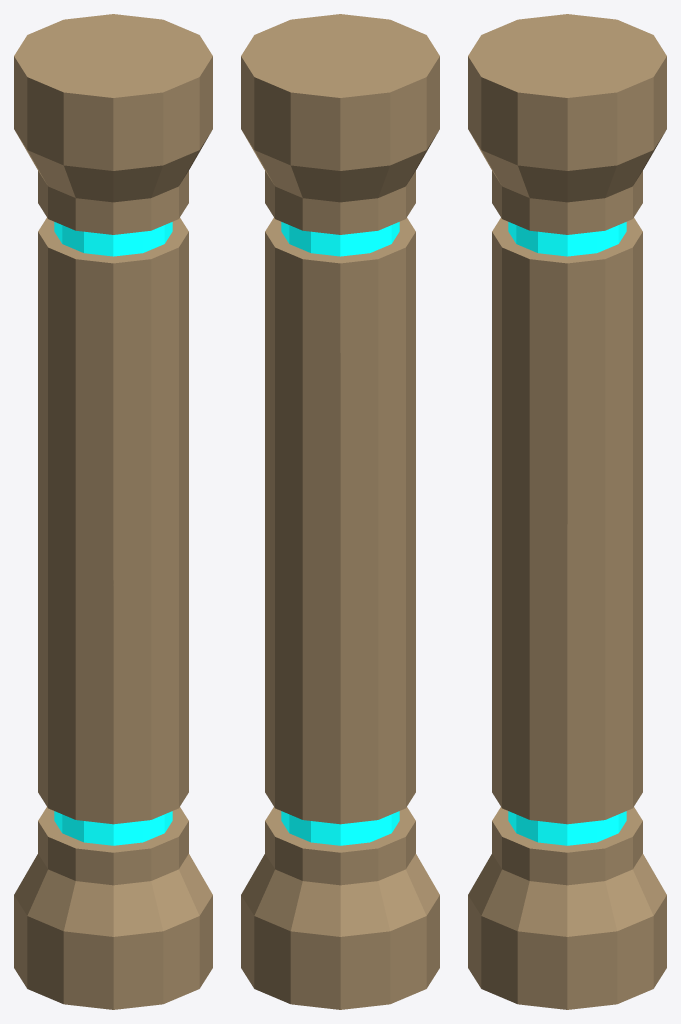
Rendered from Pillar.fbx.
3 renders of one model, left to right at view 1: azimuth 30°, elevation 25°; view 2: azimuth 150°, elevation 25°; view 3: azimuth 270°, elevation 25°, orthographic.
Visible parts, largest first — view 1: Cylinder.001; view 2: Cylinder.001; view 3: Cylinder.001.
Part boxes in pixels (box(x1,y1,x2,y2)): Cylinder.001: box(14, 14, 212, 1009); Cylinder.001: box(241, 14, 439, 1009); Cylinder.001: box(468, 14, 666, 1009).
Bounding box in the file's own units: 144 × 728 × 144.
